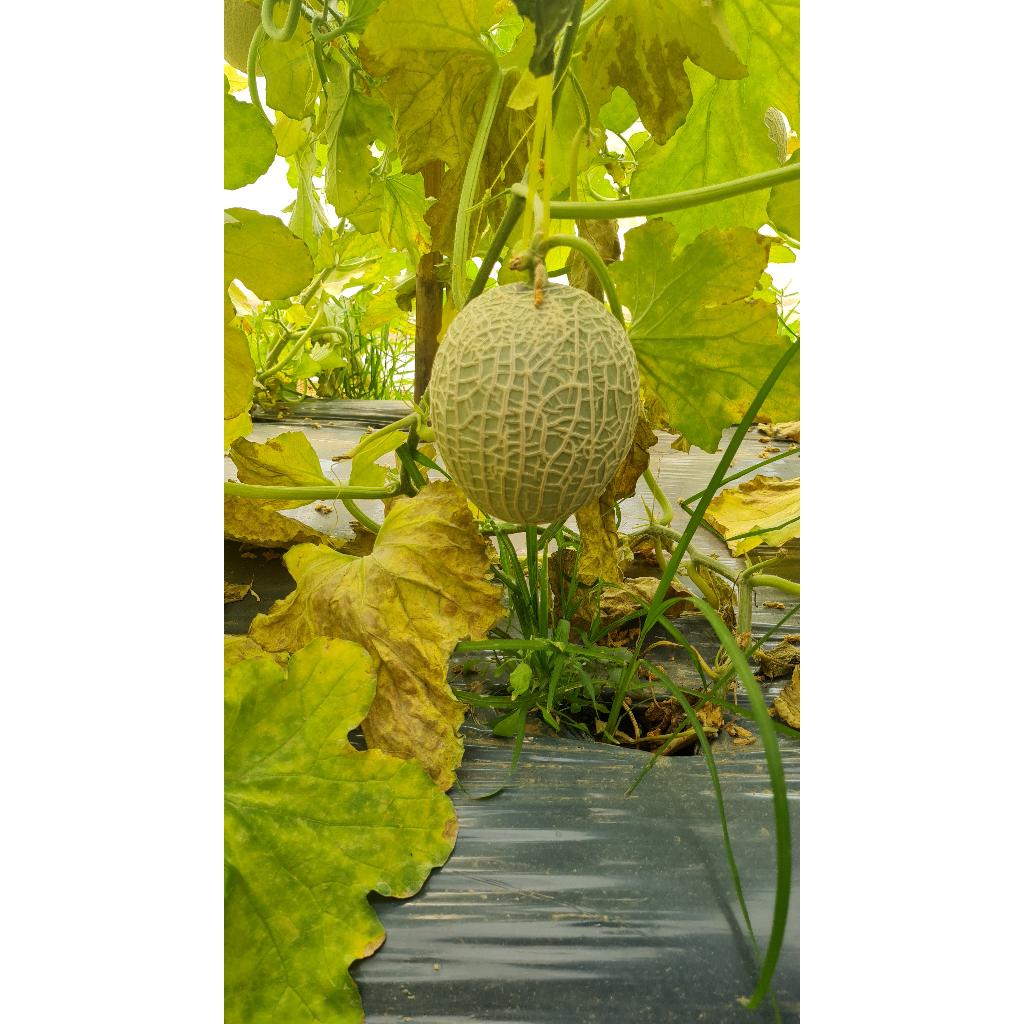melon: (430, 282, 640, 524)
